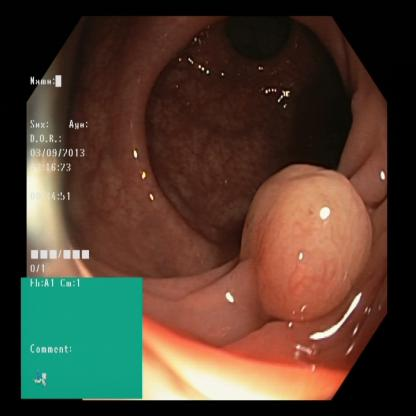Labels: (20, 274, 142, 400), (29, 72, 97, 276)
Polyps: (231, 162, 368, 314)
